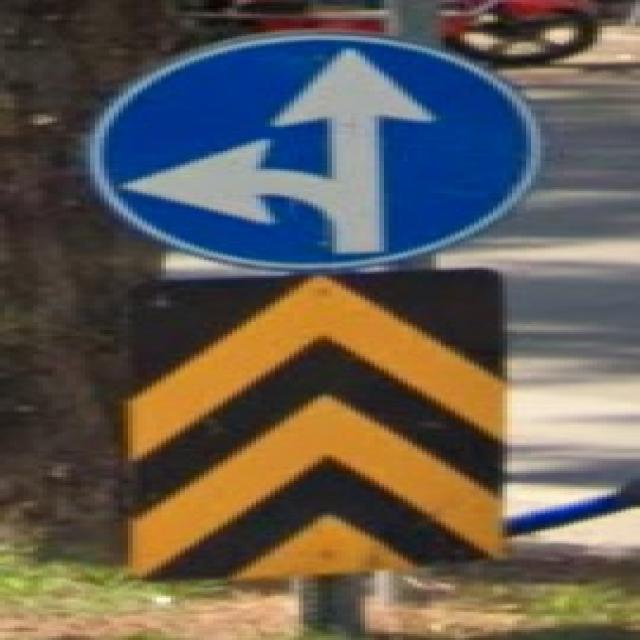Straight or Left: (87, 32, 542, 270)
